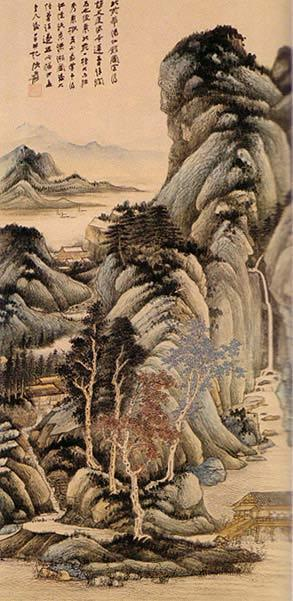booth: (225, 489, 293, 542)
creek: (253, 363, 293, 483)
house: (23, 373, 67, 415), (51, 239, 98, 265)
mountain: (161, 28, 268, 363)
range: (1, 225, 47, 342), (5, 145, 51, 207)
river: (5, 573, 293, 596), (10, 209, 98, 243)
tree: (79, 323, 147, 533), (118, 214, 178, 250)
waterfall: (246, 250, 286, 393)
